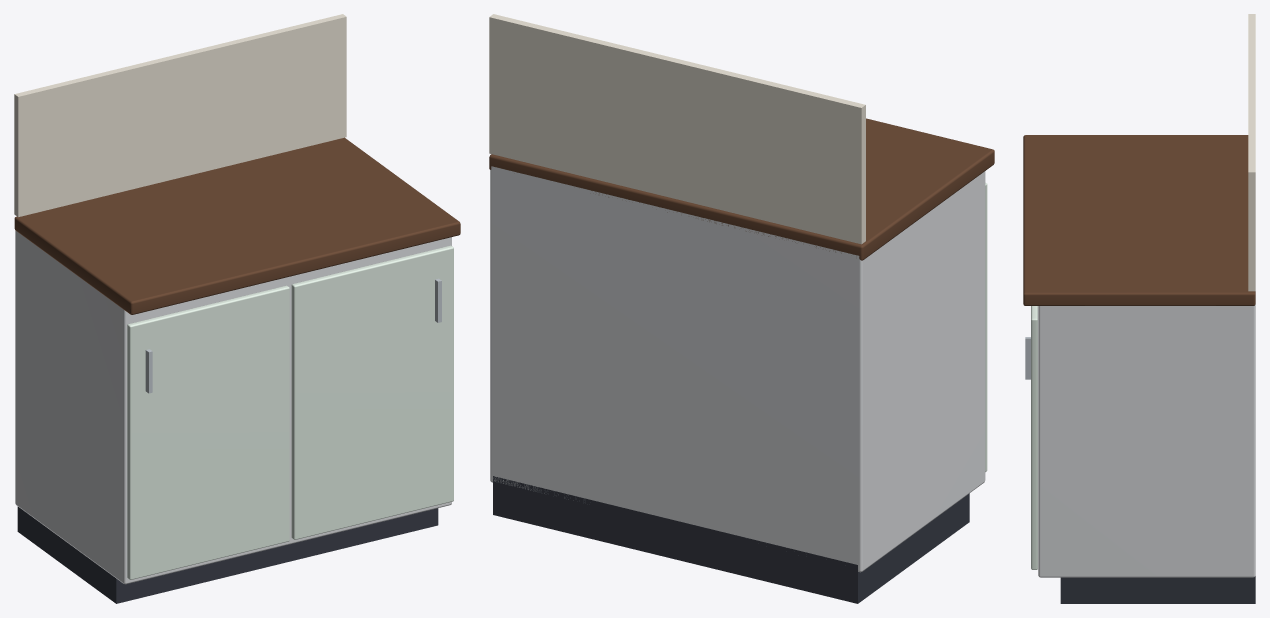
Rendered from CounterModule.fbx.
3 renders of one model, left to right at view 1: azimuth 30°, elevation 25°; view 2: azimuth 150°, elevation 25°; view 3: azimuth 270°, elevation 25°, orthographic. The views are drawn at different scales.
Parts seen in each view (by area): view 1: CounterModuleBody, Door, Door__swap.001; view 2: CounterModuleBody, Door; view 3: CounterModuleBody, Door__swap.001.
Part boxes in pixels (x1,y1,x2,y2): CounterModuleBody: (14,14,460,603); Door: (127,285,289,579); Door__swap.001: (291,245,453,539); CounterModuleBody: (489,14,994,603); Door: (985,183,987,471); CounterModuleBody: (1023,14,1255,603); Door__swap.001: (1031,306,1037,569).
Bounding box in the file's own units: 1 × 1.28 × 0.62.
